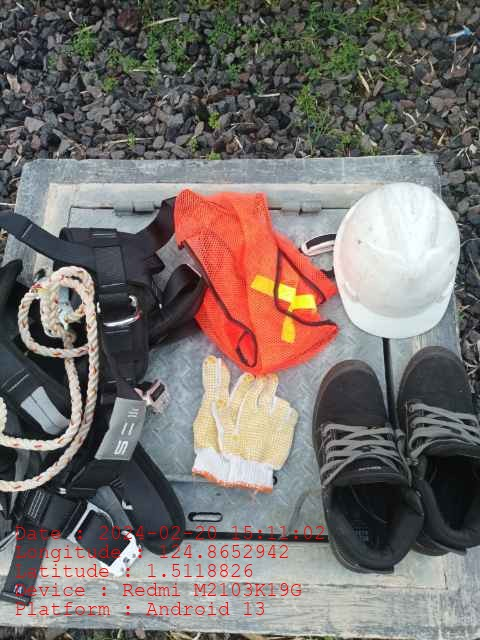HELM: (334, 182, 460, 341)
ROMPI: (174, 189, 336, 372)
SEPATU: (312, 346, 480, 577)
